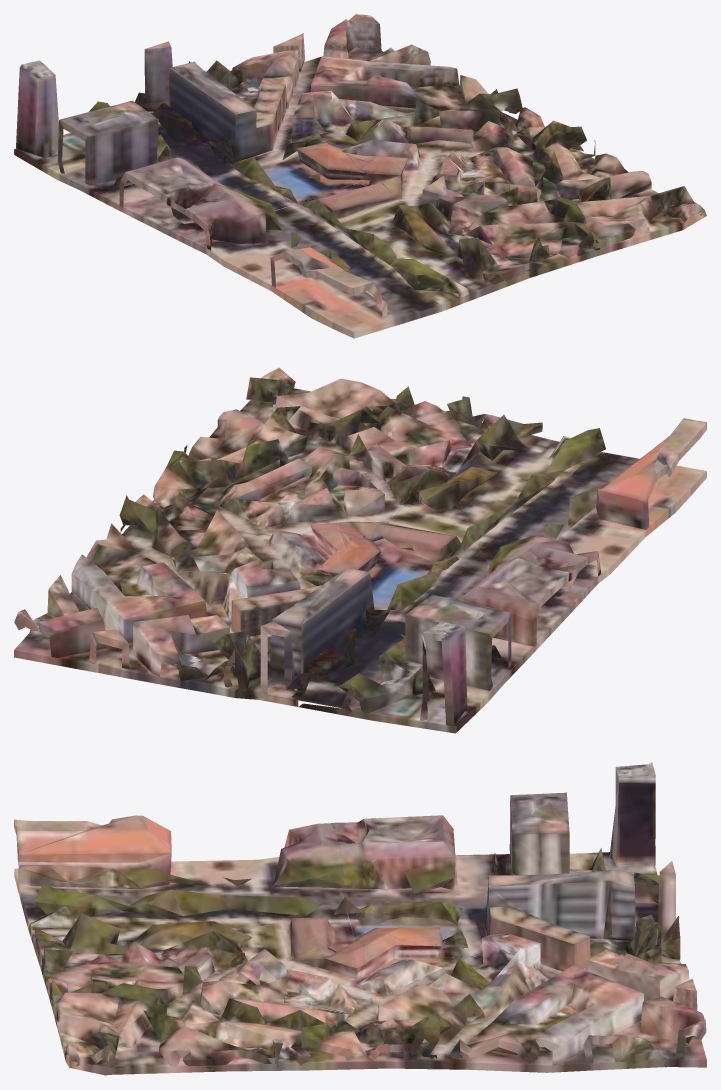
The picture shows the model from 3 angles, top to bottom: view 1: azimuth 30°, elevation 25°; view 2: azimuth 150°, elevation 25°; view 3: azimuth 270°, elevation 25°; orthographic projection. The views are drawn at different scales.
Parts seen in each view (by area): view 1: Mesh_0; view 2: Mesh_0; view 3: Mesh_0.
Boxes of the visible parts, x1,y1,x2,y2 form: Mesh_0: (14, 14, 706, 338); Mesh_0: (14, 367, 706, 733); Mesh_0: (14, 762, 706, 1075).
Size of the model in its own units: 267 by 54.72 by 330.
Materials: 2 (2 with a texture image).
